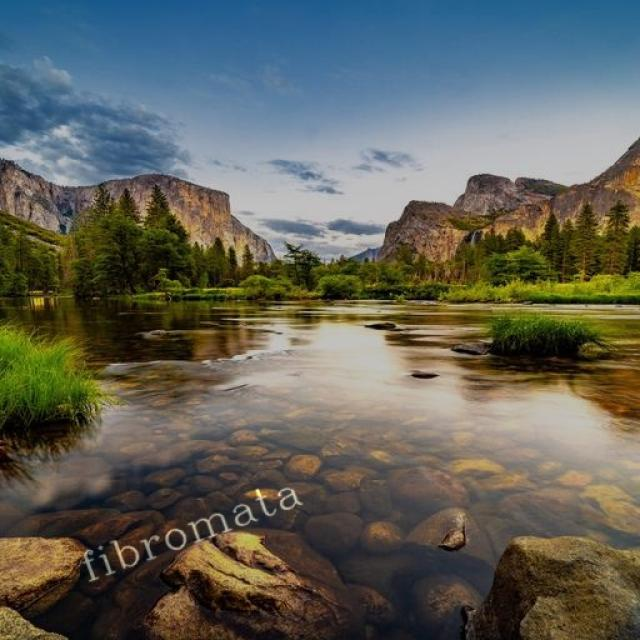watermark: (76, 470, 305, 589)
